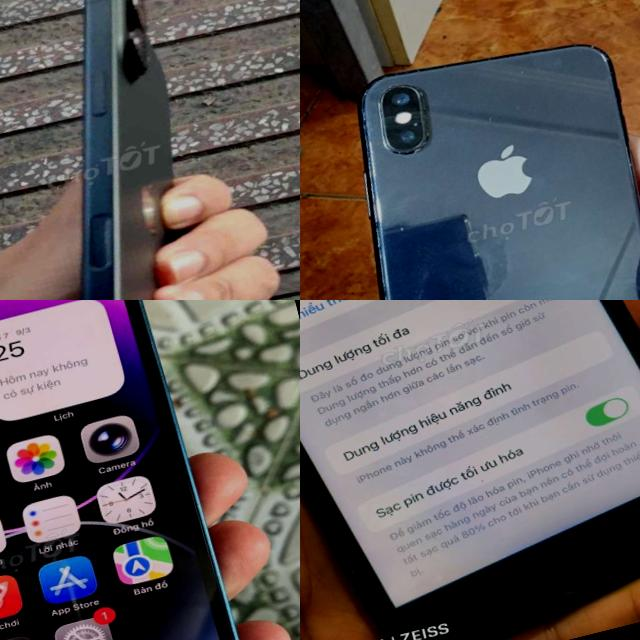scratch: (340, 90, 390, 212), (460, 102, 514, 138), (373, 213, 422, 250), (577, 37, 614, 73), (504, 57, 531, 83), (410, 83, 433, 107), (450, 210, 472, 230), (468, 247, 490, 266), (378, 279, 396, 300), (623, 159, 638, 174), (419, 130, 434, 142)
